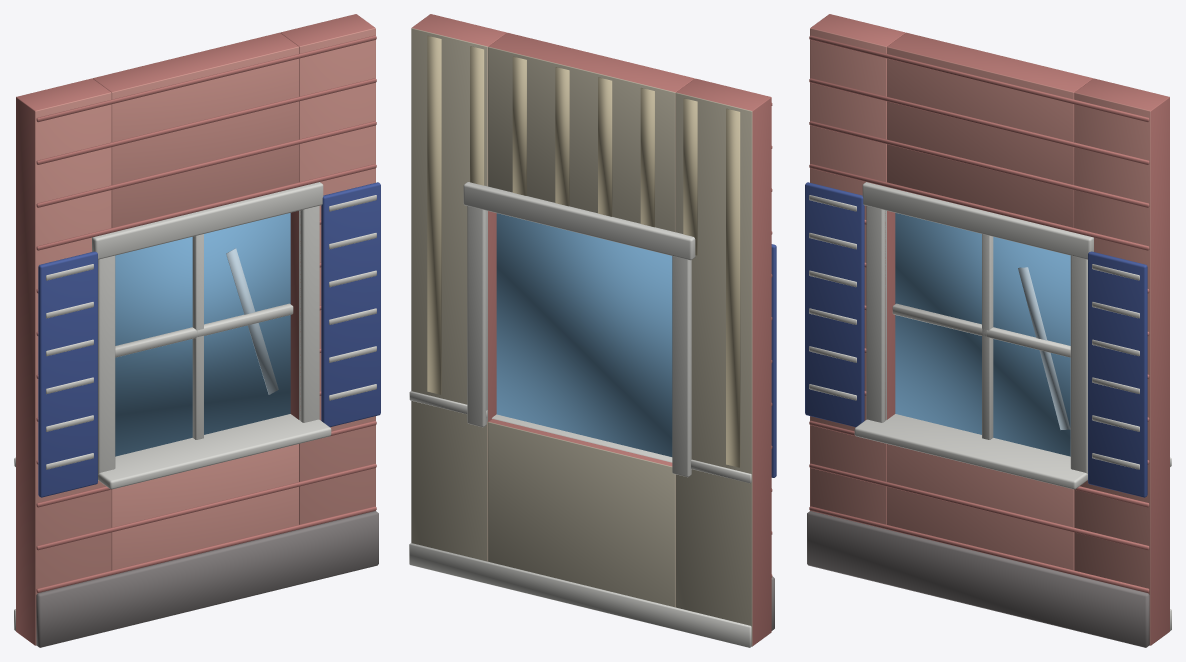
Rendered from wall_window_pink.glb.
3 views of the same model, side by side, from view 1: azimuth 30°, elevation 25°; view 2: azimuth 150°, elevation 25°; view 3: azimuth 330°, elevation 25° (orthographic).
Parts seen in each view (by area): view 1: wall_window_pink; view 2: wall_window_pink; view 3: wall_window_pink.
Part boxes in pixels (x1,y1,x2,y2): wall_window_pink: (14,14,380,647); wall_window_pink: (409,14,776,647); wall_window_pink: (805,14,1171,647).
Size of the model in its own units: 2 by 3 by 0.405.
